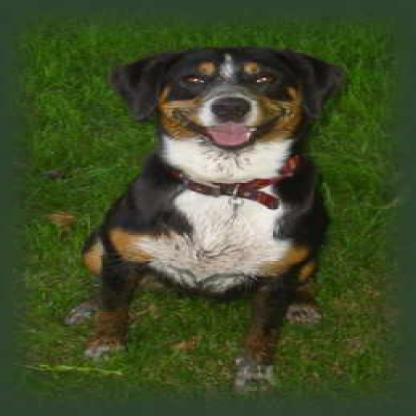EntleBucher: (77, 44, 341, 384)
